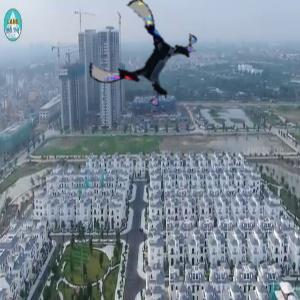drone: (95, 9, 191, 105)
